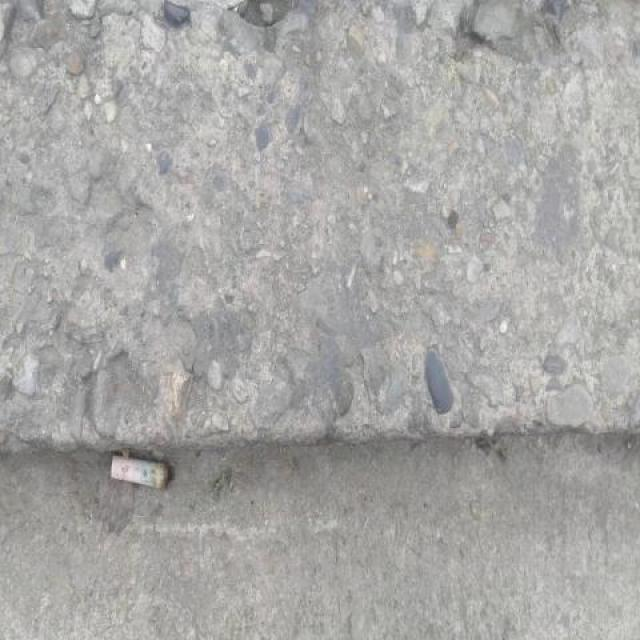non-organic waste: (106, 450, 178, 495)
